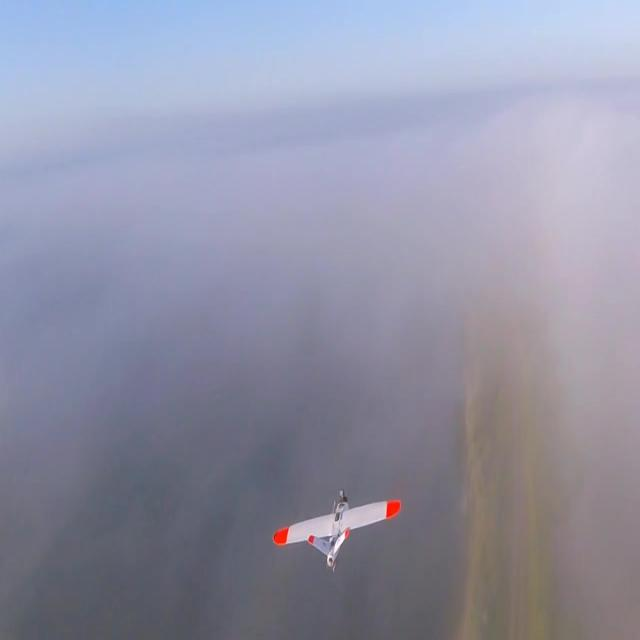iha: (272, 519, 402, 540)
